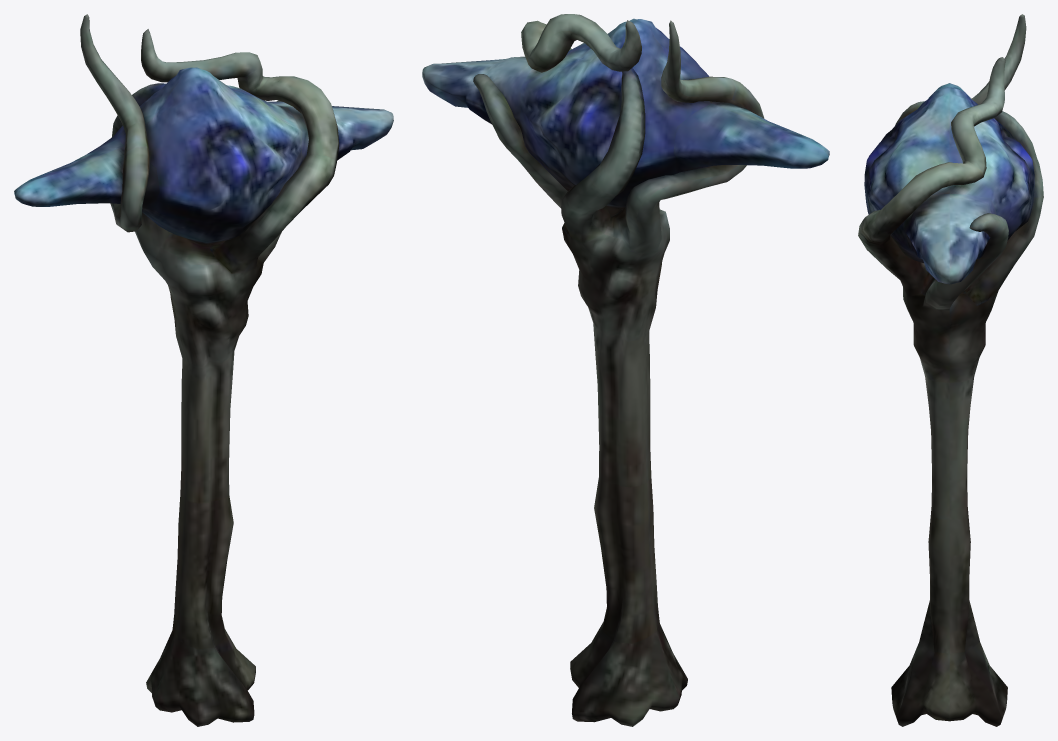
File: weapon-rune-stricken-wand.glb
The picture shows the model from 3 angles, left to right: view 1: azimuth 30°, elevation 25°; view 2: azimuth 150°, elevation 25°; view 3: azimuth 270°, elevation 25°; orthographic projection. The views are drawn at different scales.
Visible parts, largest first — view 1: wandM_MDL_q; view 2: wandM_MDL_q; view 3: wandM_MDL_q.
Boxes of the visible parts, x1,y1,x2,y2 form: wandM_MDL_q: (14, 14, 393, 726); wandM_MDL_q: (422, 14, 829, 726); wandM_MDL_q: (858, 14, 1043, 726).
Size of the model in its own units: 0.6398 by 1.11 by 0.2811.
Materials: 1 (1 with a texture image).
